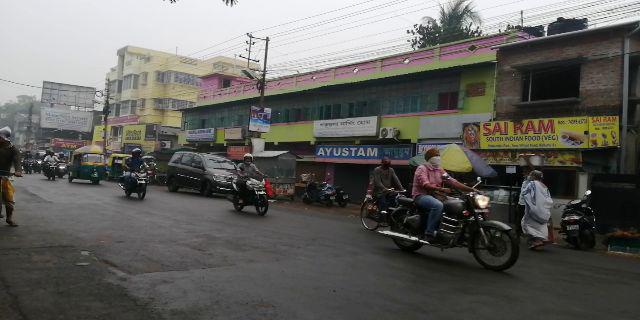Autorickshaw: (71, 150, 109, 187)
Car: (166, 148, 230, 190)
Motorbike: (386, 147, 521, 271), (226, 155, 272, 216), (119, 145, 151, 210)
